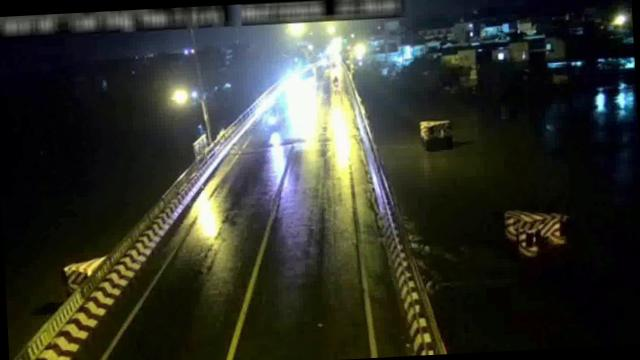Bike: (263, 101, 282, 130)
